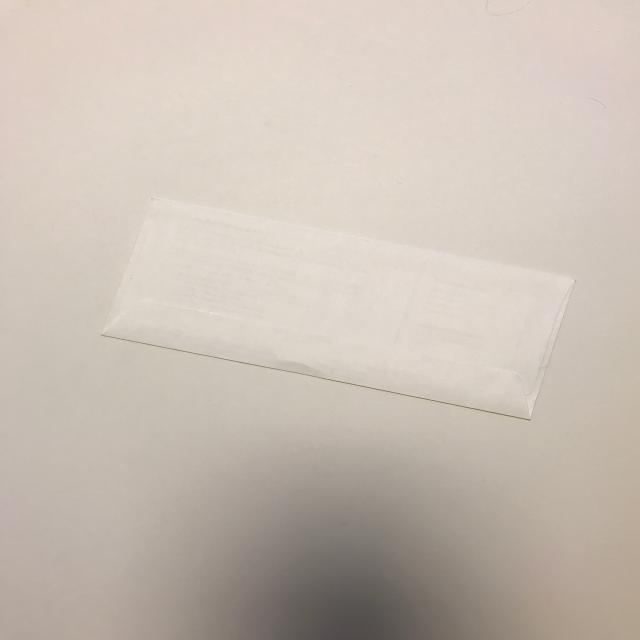paper: (80, 185, 606, 442)
